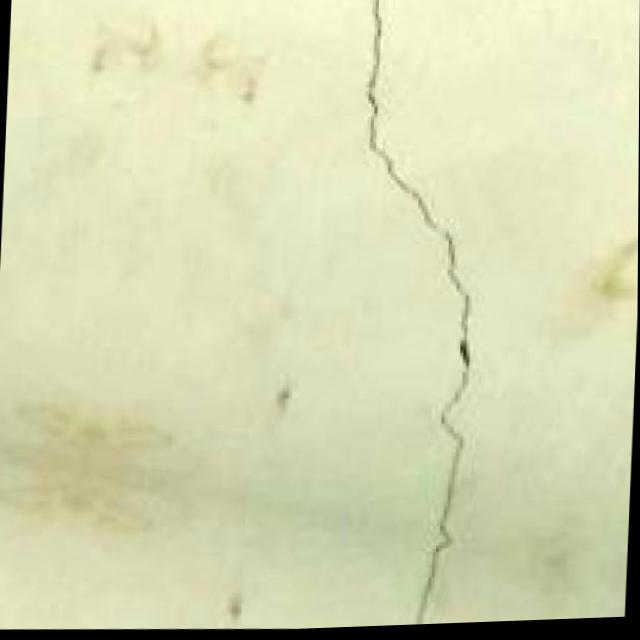Crack: (315, 0, 517, 631)
